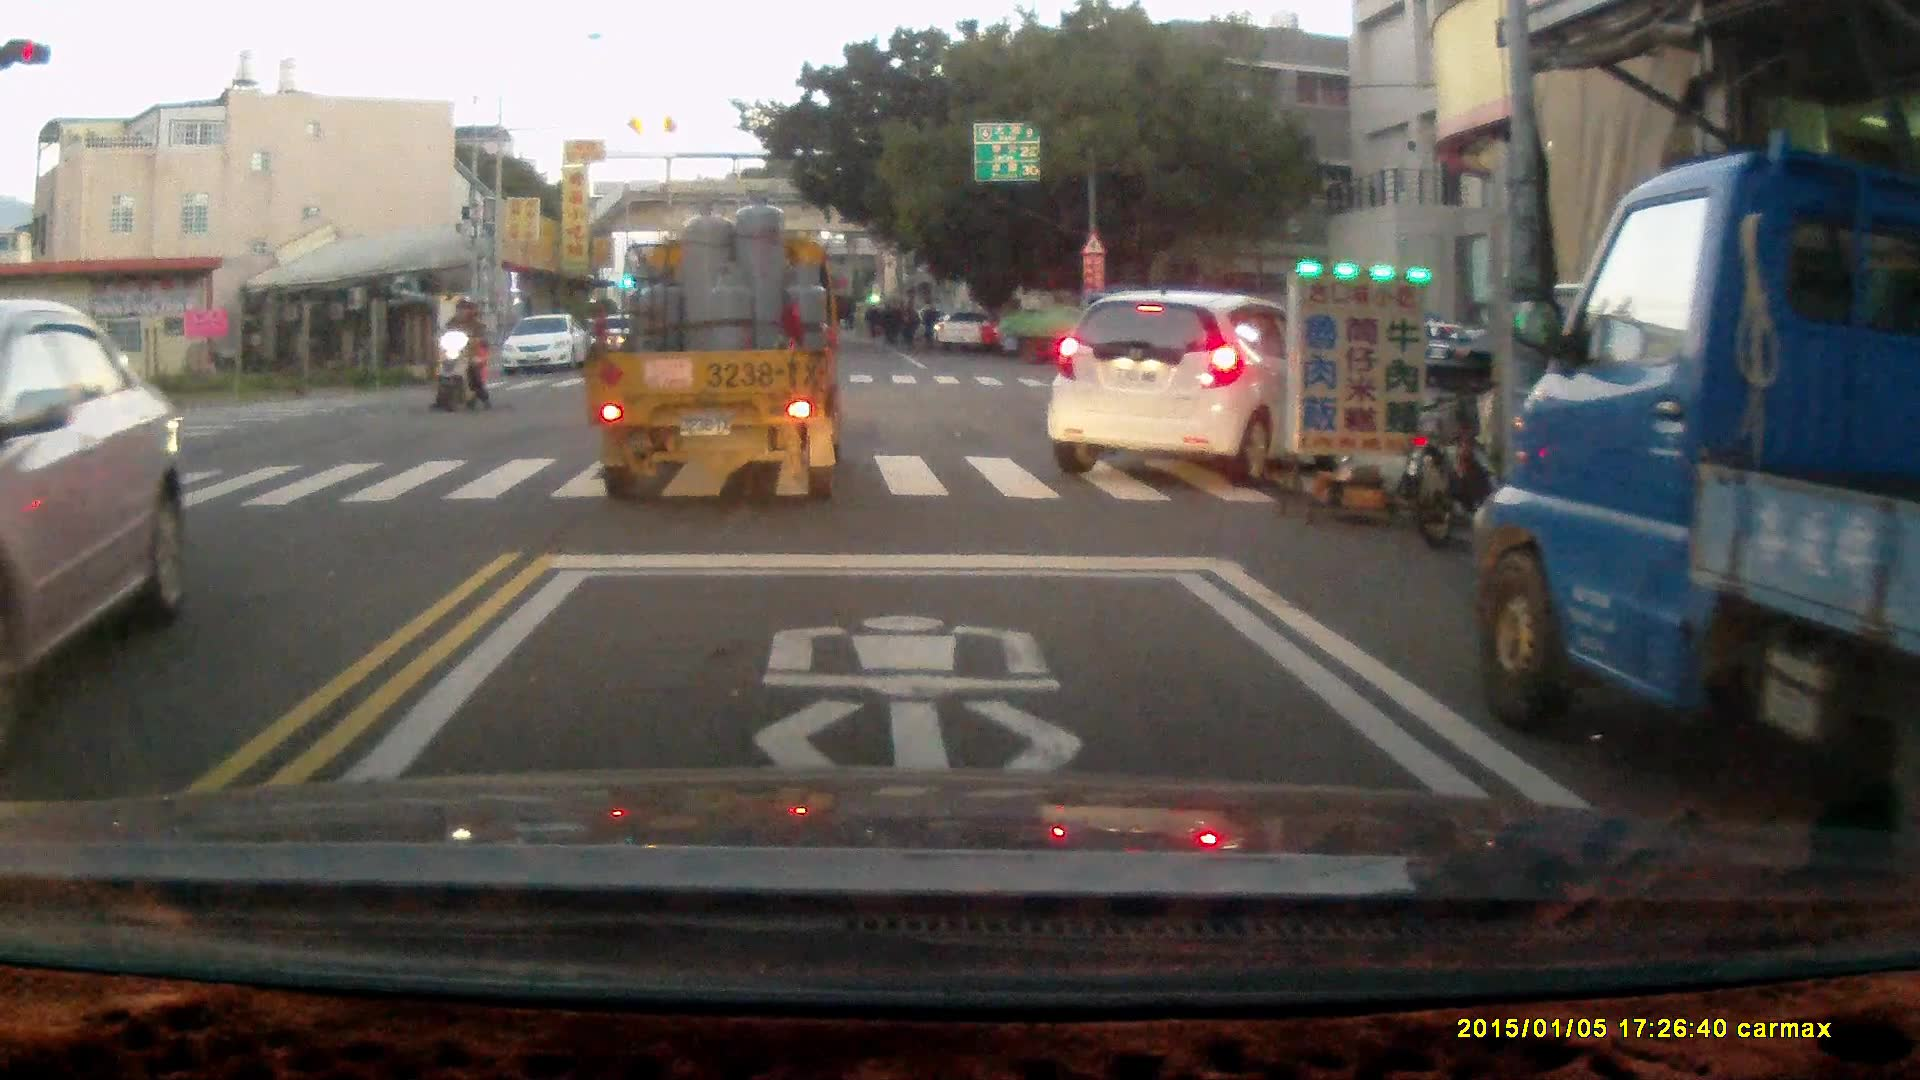rider: (431, 299, 491, 414)
vehicle: (1468, 146, 1920, 805), (1, 297, 188, 741), (584, 198, 848, 506), (1044, 288, 1327, 469), (1002, 284, 1169, 367), (506, 312, 588, 379)
